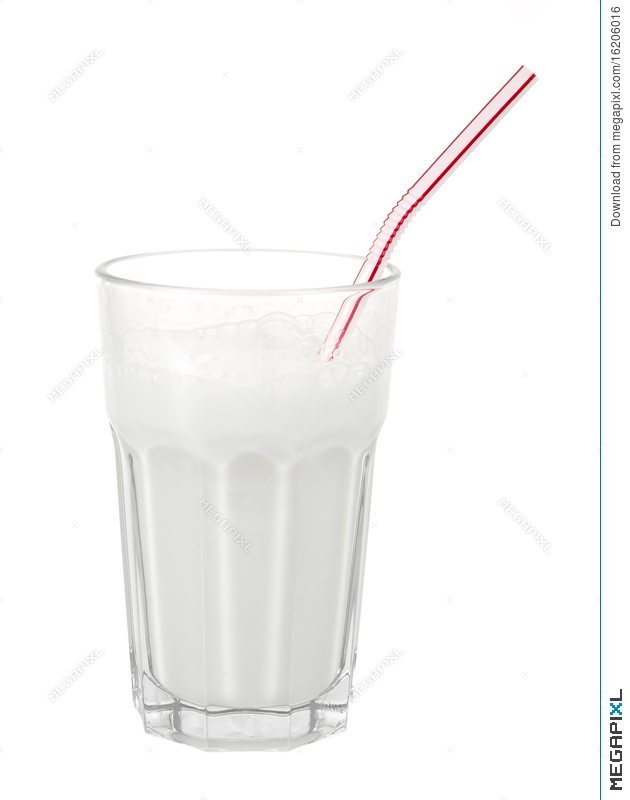glass of milk: (85, 213, 422, 754)
